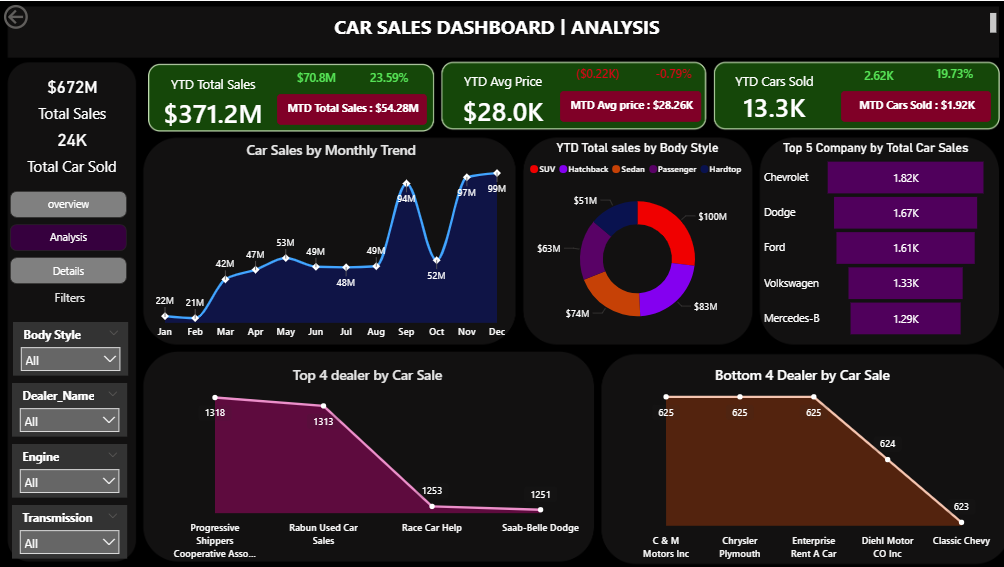

This screenshot's page, from the dashboard's own definition file:
{"tool":"powerbi","page":{"name":"Analysis","canvas":[1280,720],"ordinal":1},"visuals":[{"type":"areaChart","title":"Car Sales by Monthly Trend","fields":{"Y":["Sum(car_data.Price ($))"],"Category":["Calender table.Month"]},"box":[189,176.5,461.5,255.8],"z":0},{"type":"donutChart","fields":{"Category":["car_data.Body Style"],"Y":["car_data.YTD Total sales"]},"box":[665.8,176.5,284.9,255.8],"z":1000},{"type":"funnel","title":"Top 5 Company by Total Car Sales","fields":{"Category":["car_data.Company"],"Y":["CountNonNull(car_data.Car_id)"]},"box":[963.2,176.5,293.3,255.8],"z":2000},{"type":"lineChart","title":"Top 4 dealer by Car Sale","fields":{"Y":["CountNonNull(car_data.Car_id)"],"Category":["car_data.Dealer_Name"]},"box":[177.9,461.5,576.8,248.8],"z":3000},{"type":"lineChart","title":"Bottom 4 Dealer by Car Sale","fields":{"Y":["CountNonNull(car_data.Car_id)"],"Category":["car_data.Dealer_Name"]},"box":[767.3,461.5,500.4,248.8],"z":4000},{"type":"slicer","fields":{"Values":["car_data.Body Style"]},"box":[16.7,407.3,145.9,68.1],"z":5000},{"type":"slicer","fields":{"Values":["car_data.Dealer_Name"]},"box":[15.3,483.7,145.9,68.1],"z":6000},{"type":"slicer","fields":{"Values":["car_data.Engine"]},"box":[15.3,561.5,145.9,68.1],"z":7000},{"type":"slicer","fields":{"Values":["car_data.Transmission"]},"box":[15.3,639.4,145.9,68.1],"z":8000},{"type":"textbox","box":[15.3,360,145.9,37.5],"z":9000},{"type":"pageNavigator","box":[12.5,240.5,148.7,119.5],"z":10000},{"type":"card","fields":{"Values":["car_data.Total Sales"]},"box":[16.7,84.8,150.1,72.3],"z":11000},{"type":"card","fields":{"Values":["CountNonNull(car_data.Car_id)"]},"box":[16.8,151.2,149.5,75.6],"z":12000},{"type":"card","title":"YTD Total Sales","fields":{"Values":["car_data.YTD Total sales"]},"box":[189,94.5,162.6,72.3],"z":13000},{"type":"card","fields":{"Values":["car_data.Sales Difference"]},"box":[353.1,79.2,94.5,38.9],"z":14000},{"type":"card","fields":{"Values":["car_data.YOY Sales Growth"]},"box":[447.6,79.2,91.7,38.9],"z":15000},{"type":"card","fields":{"Values":["car_data.MTD KPI"]},"box":[351.7,118.1,190.4,38.9],"z":16000},{"type":"card","title":"YTD Avg Price","fields":{"Values":["car_data.YTD Avg Price"]},"box":[565.7,91.7,144.6,75.1],"z":17000},{"type":"card","fields":{"Values":["car_data.Avg Price Diff"]},"box":[711.7,79.2,93.1,29.2],"z":18000},{"type":"card","fields":{"Values":["car_data.YOY Avg Price Growth"]},"box":[817.3,79.2,72.3,29.2],"z":19000},{"type":"card","fields":{"Values":["car_data.MDT Avg Price KPI"]},"box":[710.3,114,179.3,38.9],"z":20000},{"type":"card","title":"YTD Cars Sold","fields":{"Values":["car_data.YTD Cars sold"]},"box":[911.8,91.7,140.4,65.3],"z":21000},{"type":"card","fields":{"Values":["car_data.Cars Sold Diff"]},"box":[1067.5,79.2,93.1,33.4],"z":22000},{"type":"card","fields":{"Values":["car_data.YOY Cars Sold Growth"]},"box":[1163.4,79.2,93.1,29.2],"z":23000},{"type":"card","fields":{"Values":["car_data.MTD Cars Sold KPI"]},"box":[1066.1,114,190.4,38.9],"z":24000},{"type":"textbox","box":[0,9.7,1267.6,37.5],"z":25000},{"type":"actionButton","box":[0,0,40.3,40.3],"z":26000}]}

Visuals, with their boxes in screenshot pixels (x1, y1, x2, y2), scaled from the page's 1280x720 canvas onto the 1004x567 screenshot:
"Car Sales by Monthly Trend" areaChart: (left=148, top=139, right=510, bottom=340)
donutChart - car_data.Body Style x car_data.YTD Total sales: (left=522, top=139, right=746, bottom=340)
"Top 5 Company by Total Car Sales" funnel: (left=756, top=139, right=986, bottom=340)
"Top 4 dealer by Car Sale" lineChart: (left=140, top=363, right=592, bottom=559)
"Bottom 4 Dealer by Car Sale" lineChart: (left=602, top=363, right=994, bottom=559)
slicer - car_data.Body Style: (left=13, top=321, right=128, bottom=374)
slicer - car_data.Dealer_Name: (left=12, top=381, right=126, bottom=435)
slicer - car_data.Engine: (left=12, top=442, right=126, bottom=496)
slicer - car_data.Transmission: (left=12, top=504, right=126, bottom=557)
textbox: (left=12, top=284, right=126, bottom=313)
pageNavigator: (left=10, top=189, right=126, bottom=284)
card - car_data.Total Sales: (left=13, top=67, right=131, bottom=124)
card - CountNonNull(car_data.Car_id): (left=13, top=119, right=130, bottom=179)
"YTD Total Sales" card: (left=148, top=74, right=276, bottom=131)
card - car_data.Sales Difference: (left=277, top=62, right=351, bottom=93)
card - car_data.YOY Sales Growth: (left=351, top=62, right=423, bottom=93)
card - car_data.MTD KPI: (left=276, top=93, right=425, bottom=124)
"YTD Avg Price" card: (left=444, top=72, right=557, bottom=131)
card - car_data.Avg Price Diff: (left=558, top=62, right=631, bottom=85)
card - car_data.YOY Avg Price Growth: (left=641, top=62, right=698, bottom=85)
card - car_data.MDT Avg Price KPI: (left=557, top=90, right=698, bottom=120)
"YTD Cars Sold" card: (left=715, top=72, right=825, bottom=124)
card - car_data.Cars Sold Diff: (left=837, top=62, right=910, bottom=89)
card - car_data.YOY Cars Sold Growth: (left=913, top=62, right=986, bottom=85)
card - car_data.MTD Cars Sold KPI: (left=836, top=90, right=986, bottom=120)
textbox: (left=0, top=8, right=994, bottom=37)
actionButton: (left=0, top=0, right=32, bottom=32)
